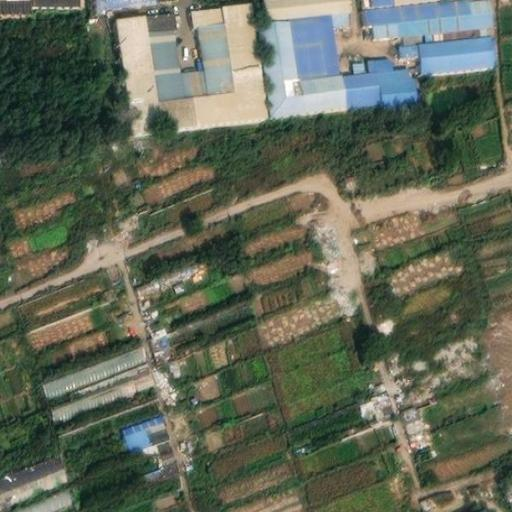building: (147, 0, 230, 92), (38, 342, 150, 400), (46, 369, 157, 424), (119, 11, 163, 128), (290, 5, 343, 76), (263, 10, 300, 111), (158, 82, 234, 124), (417, 26, 496, 66), (297, 70, 353, 108), (124, 406, 168, 442), (377, 63, 418, 99), (354, 391, 395, 425), (349, 67, 381, 100), (145, 324, 173, 355), (136, 464, 165, 485), (365, 48, 393, 68), (394, 34, 419, 55), (351, 51, 366, 70)
